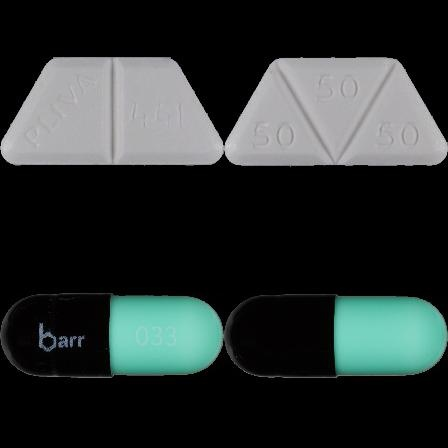55289-060: (0, 0, 224, 224)
